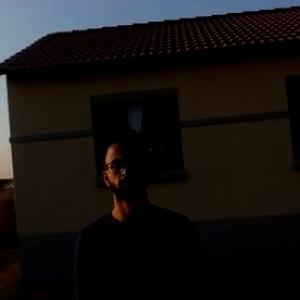follow: (73, 124, 219, 299)
